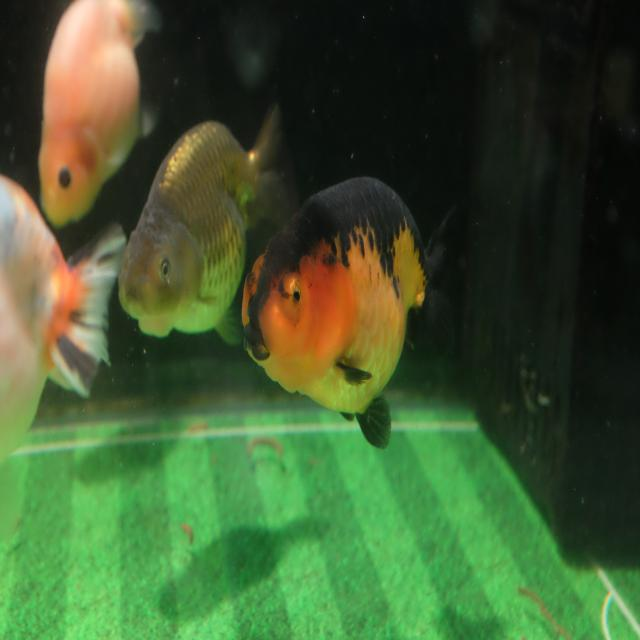Goldfish: (241, 174, 468, 451), (117, 101, 299, 339), (0, 171, 126, 468), (37, 0, 161, 230)
